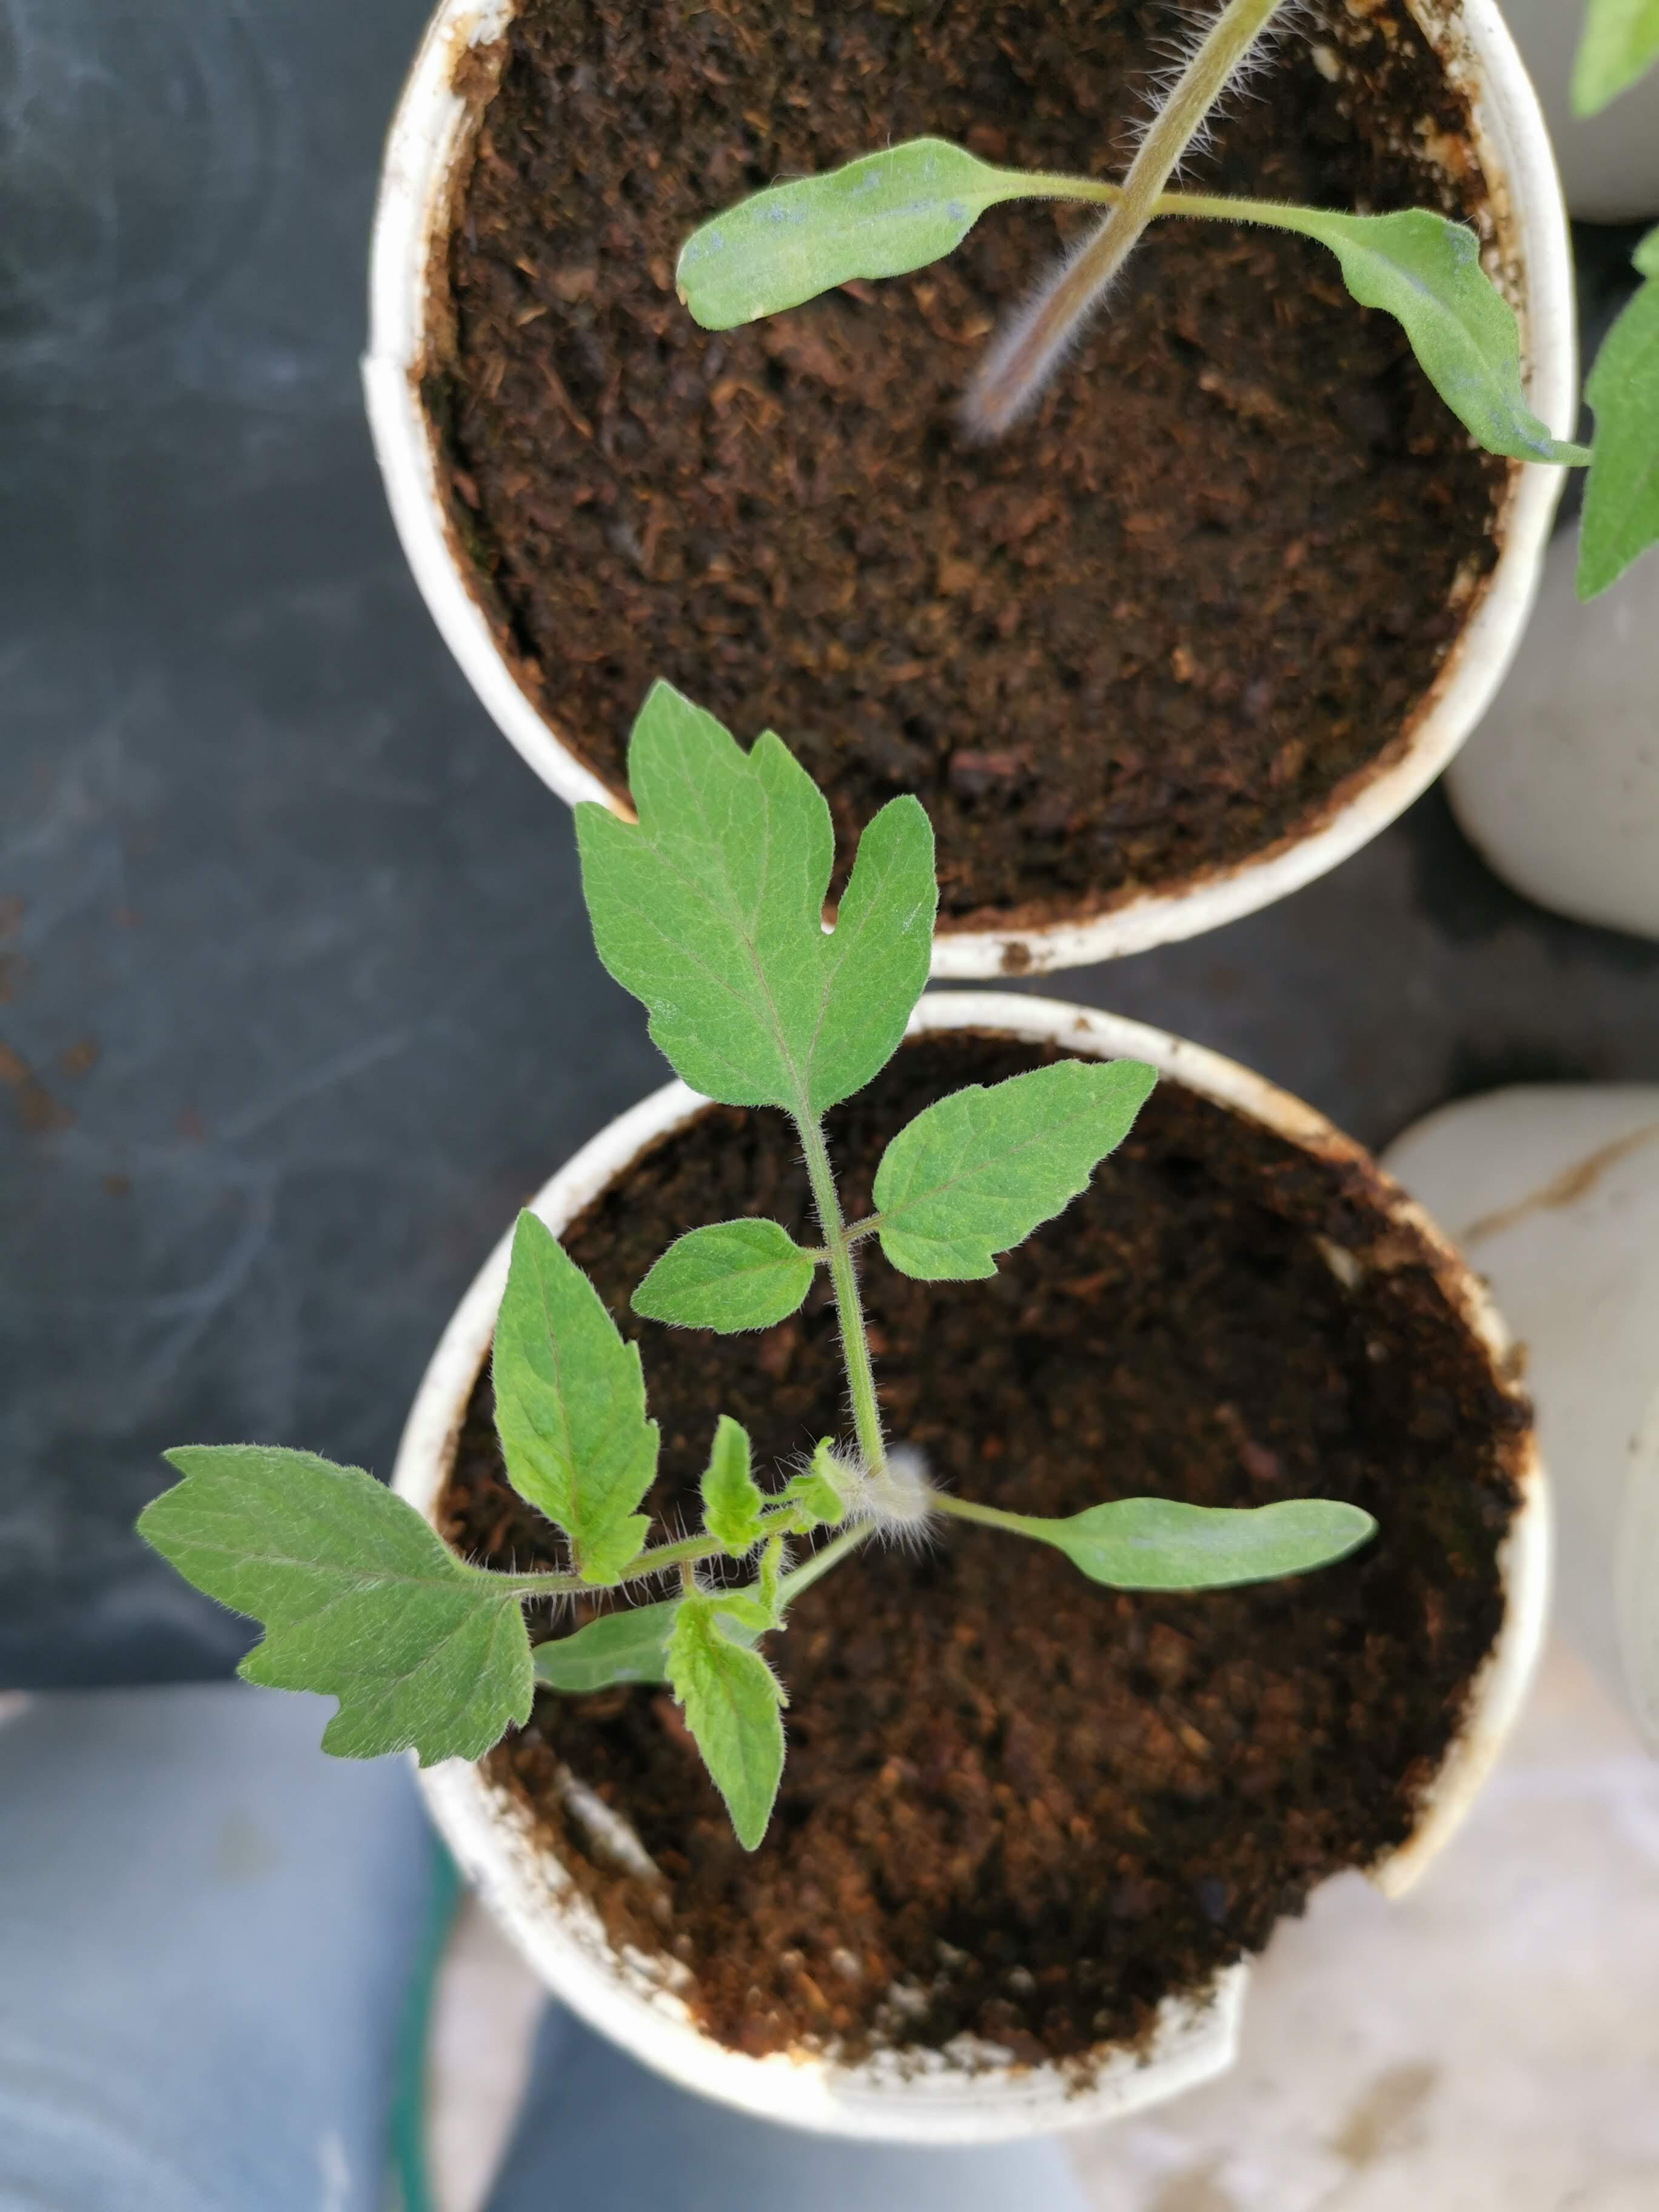Rugose leaf: (1298, 206, 1591, 469), (488, 1205, 659, 1587), (674, 138, 1004, 331), (873, 1057, 1157, 1280), (660, 1590, 788, 1851), (631, 1216, 816, 1332)
Rugose stem: (958, 0, 1380, 441)
